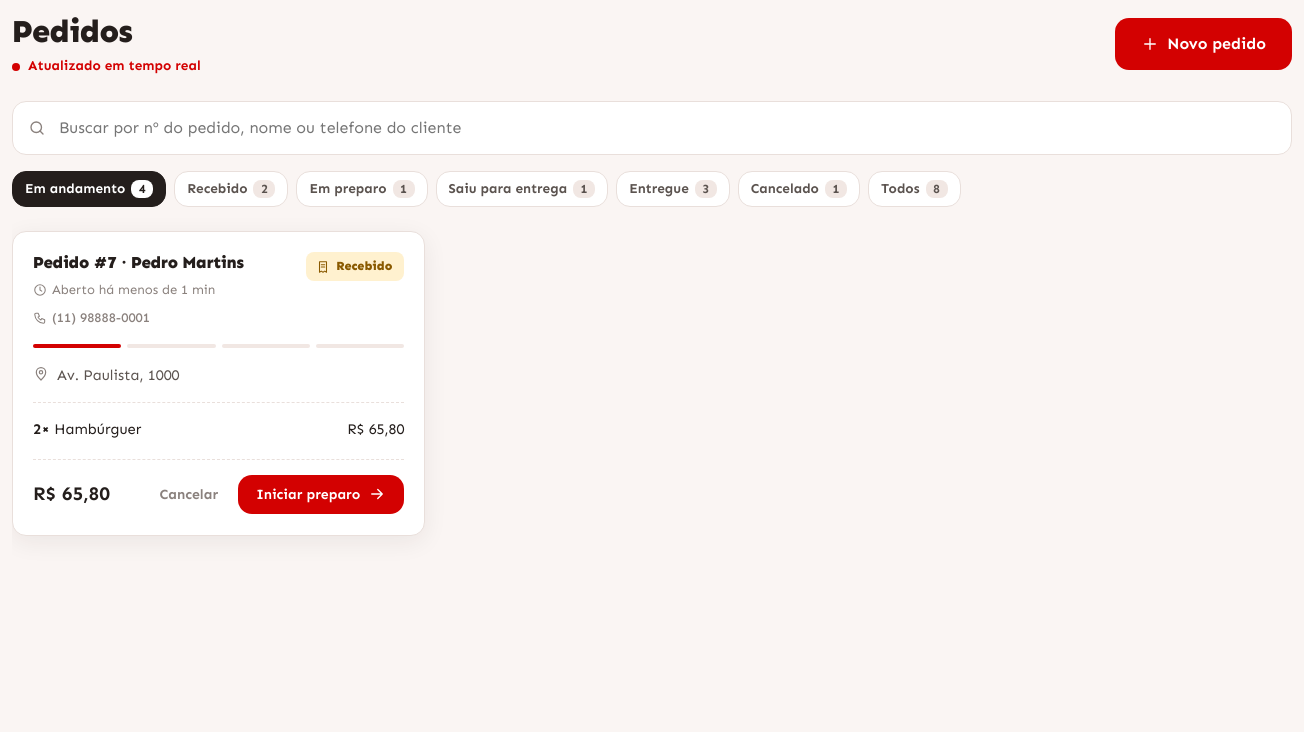
Test: OrdersPage › explains when a search finds nothing
Expected: the heading "Pedido #7 · Pedro Martins" is shown, [33, 252, 244, 272]
In the search field named "Buscar pedidos": (652, 128) [12, 101, 1292, 155], type "zzz"
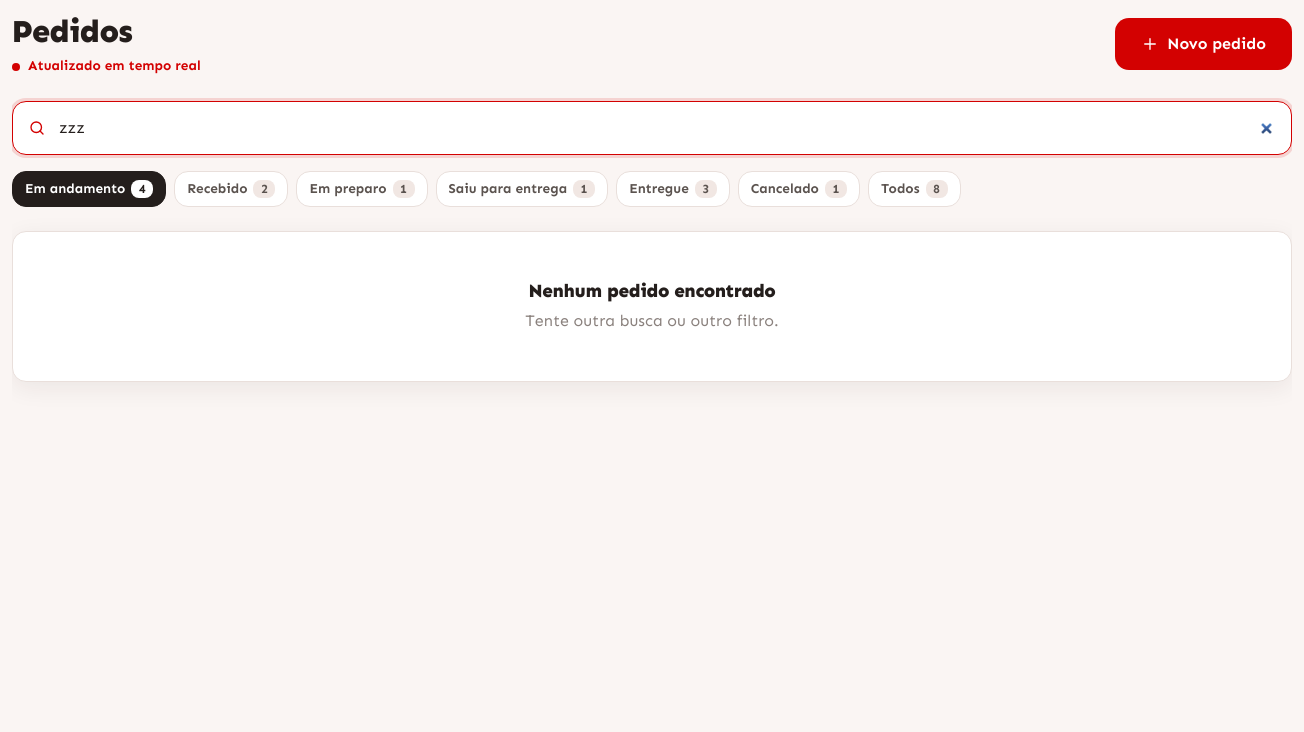
Expected: the heading "Nenhum pedido encontrado" is shown, [528, 279, 776, 302]
